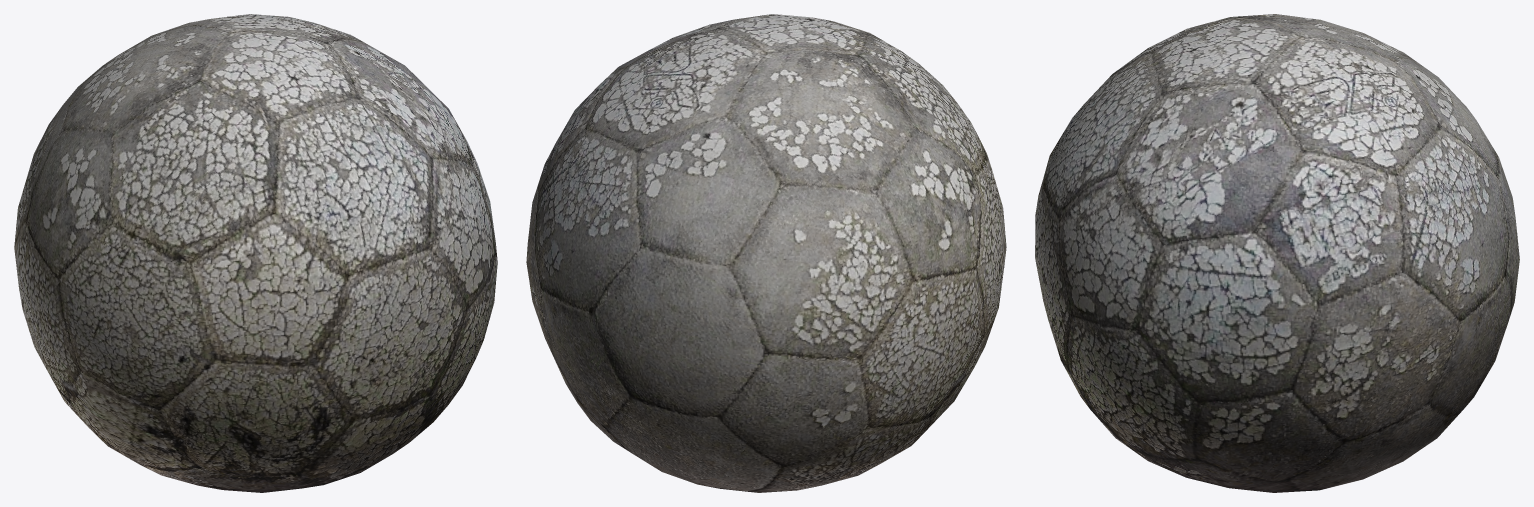
Rendered from Мяч_3д_а.fbx.
3 views of the same model, side by side, from view 1: azimuth 30°, elevation 25°; view 2: azimuth 150°, elevation 25°; view 3: azimuth 270°, elevation 25° (orthographic).
Visible parts, largest first — view 1: Cube; view 2: Cube; view 3: Cube.
Part boxes in pixels (x1,y1,x2,y2): Cube: (14,14,497,492); Cube: (526,14,1006,492); Cube: (1035,14,1519,492).
Size of the model in its own units: 225 by 224 by 228.
1 material, 1 textured.
